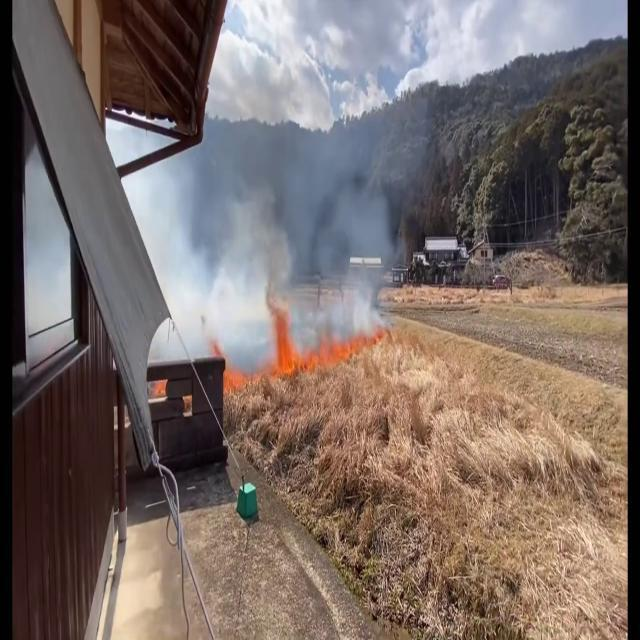Fire: (227, 303, 407, 414)
Smoke: (167, 75, 447, 355)
